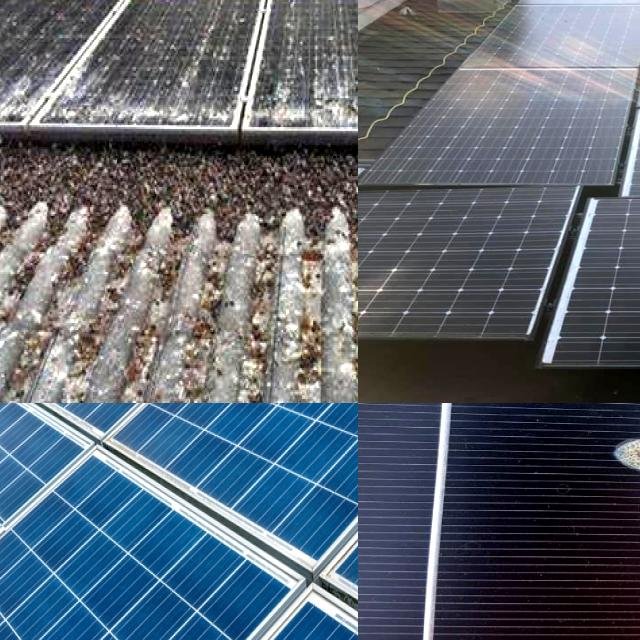bird: (57, 51, 116, 126), (264, 67, 342, 116), (0, 72, 36, 117), (0, 57, 13, 119)
crack: (0, 403, 358, 640)
dust: (360, 228, 528, 326), (579, 214, 640, 345)
shadow: (584, 403, 640, 500)
